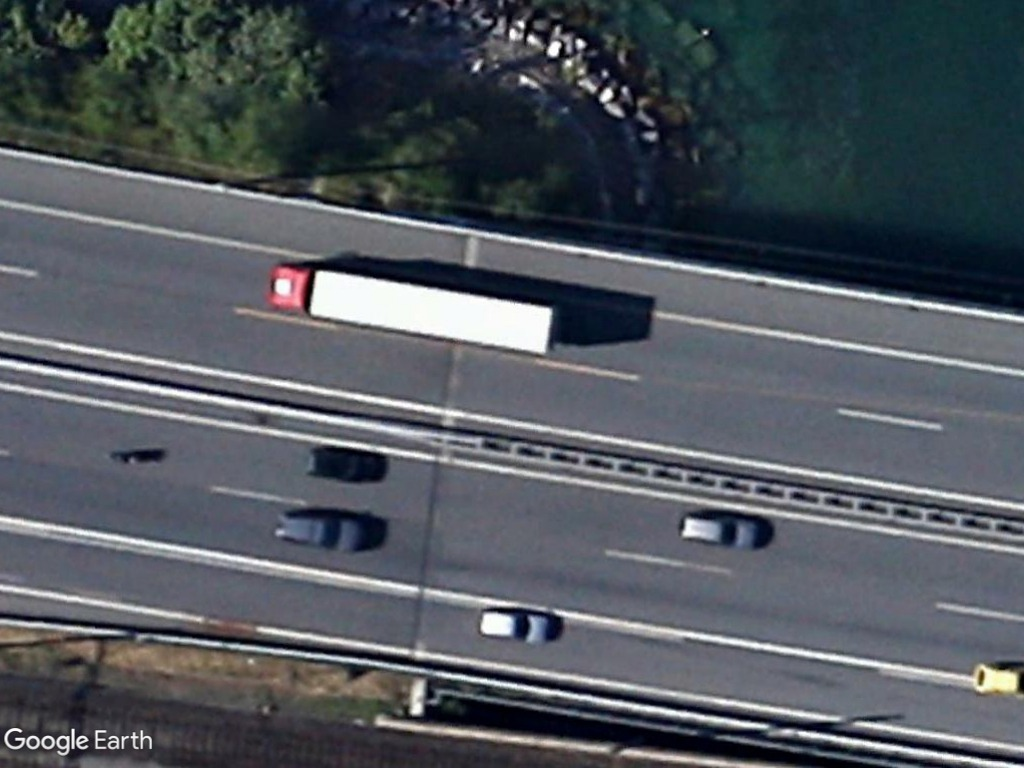car: (269, 504, 371, 553), (673, 506, 771, 555), (471, 603, 557, 649)
longvehicle: (262, 259, 561, 359)
